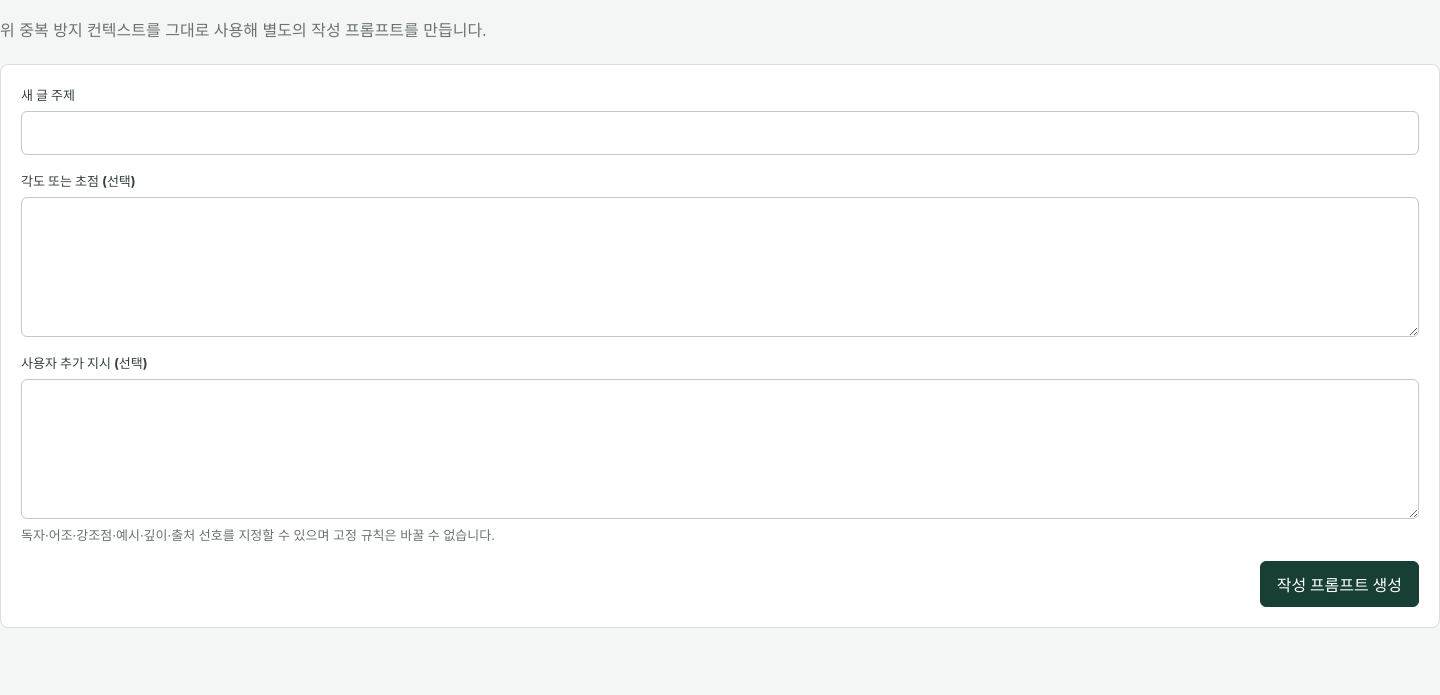
NonNewsPromptComposer › generates and displays a current valid prompt
Type "AI 에이전트 입문" into the field labelled "새 글 주제" at point(720, 133), box [21, 111, 1419, 155]
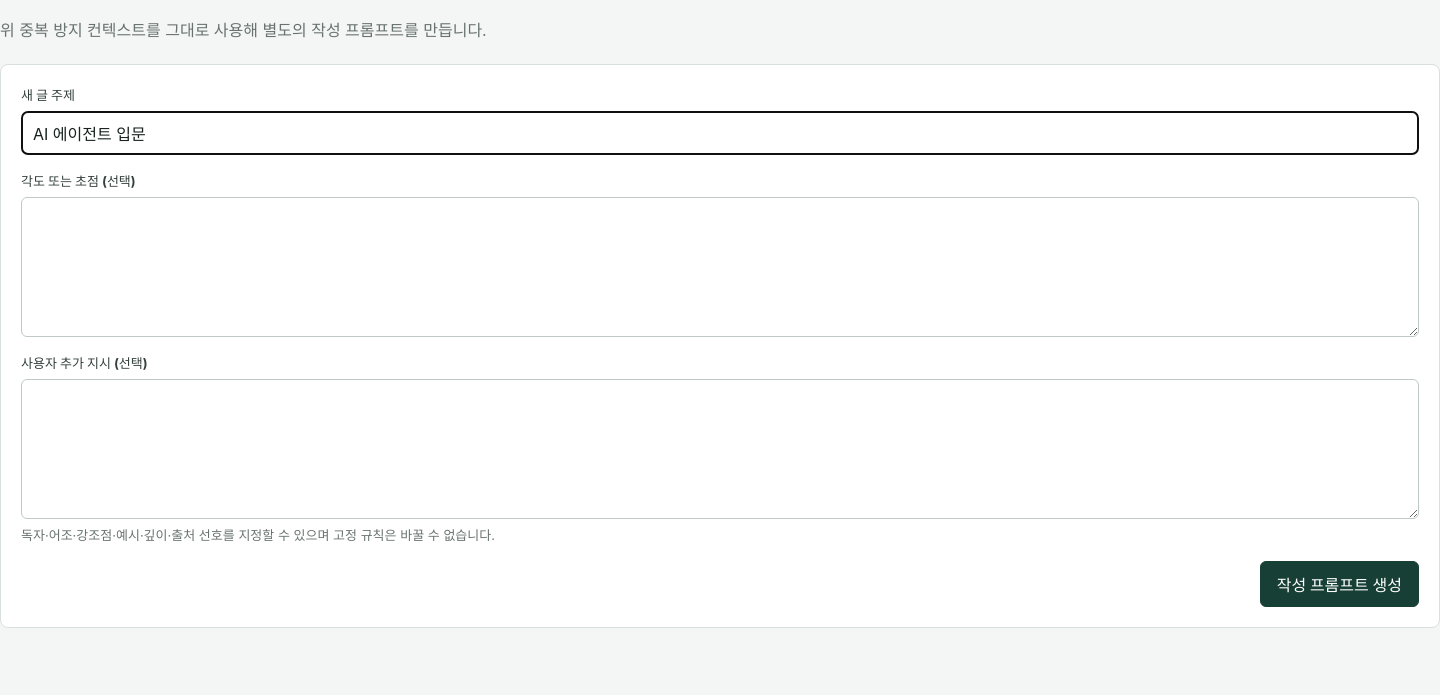
Click the button "작성 프롬프트 생성" at point(1339, 584), box [1260, 561, 1419, 607]
(page scrolled)
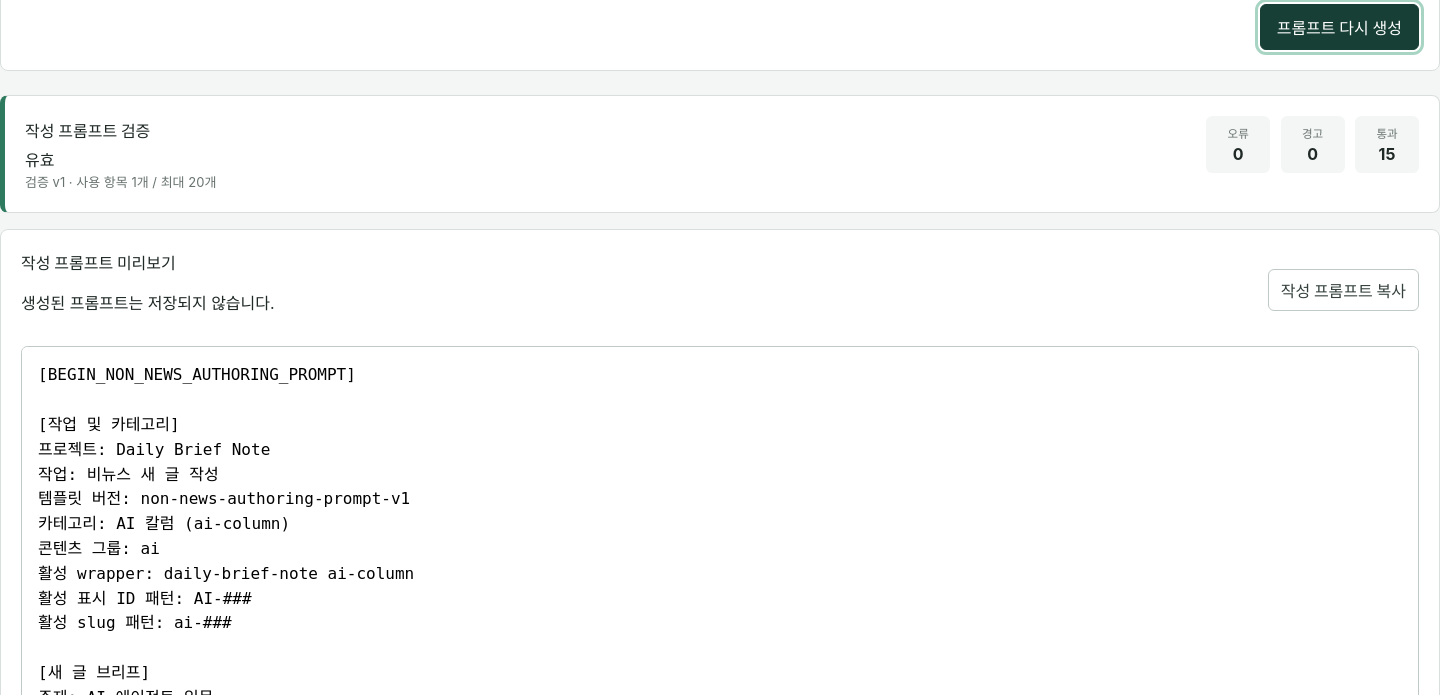
expect the message reads "유효": met, box [25, 150, 54, 170]
expect the button "작성 프롬프트 복사" is enabled: met, box [1268, 269, 1419, 311]
